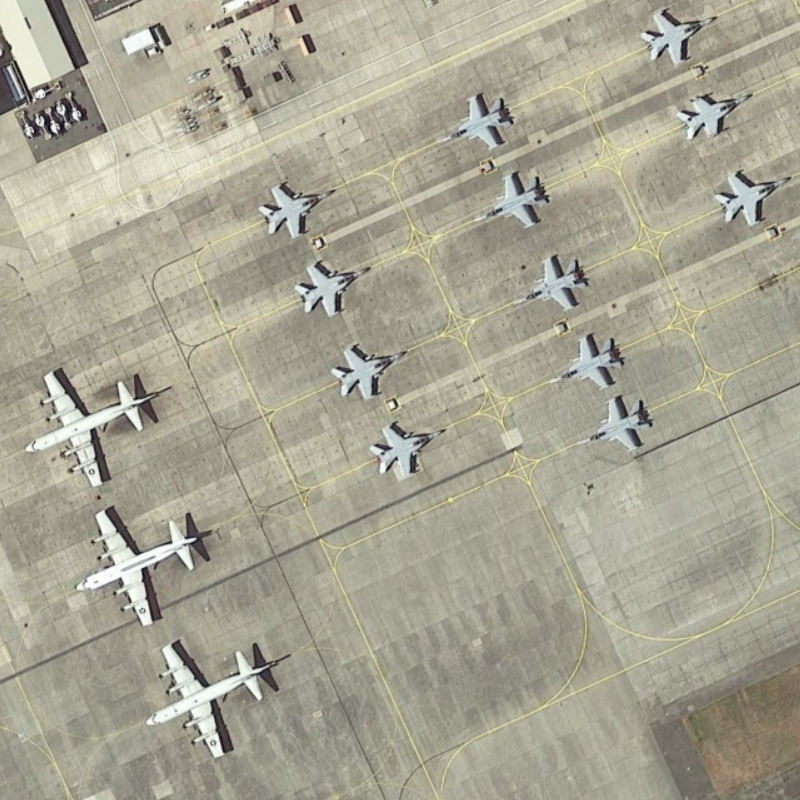A16: (362, 411, 455, 486), (426, 86, 524, 156), (633, 2, 729, 72), (537, 326, 627, 399), (286, 252, 376, 324), (253, 172, 343, 243), (467, 166, 554, 239), (571, 392, 659, 464), (709, 164, 798, 234), (506, 248, 590, 320), (665, 86, 763, 144), (330, 336, 410, 400)
A9: (65, 502, 216, 633), (137, 634, 285, 766), (20, 362, 165, 490)
